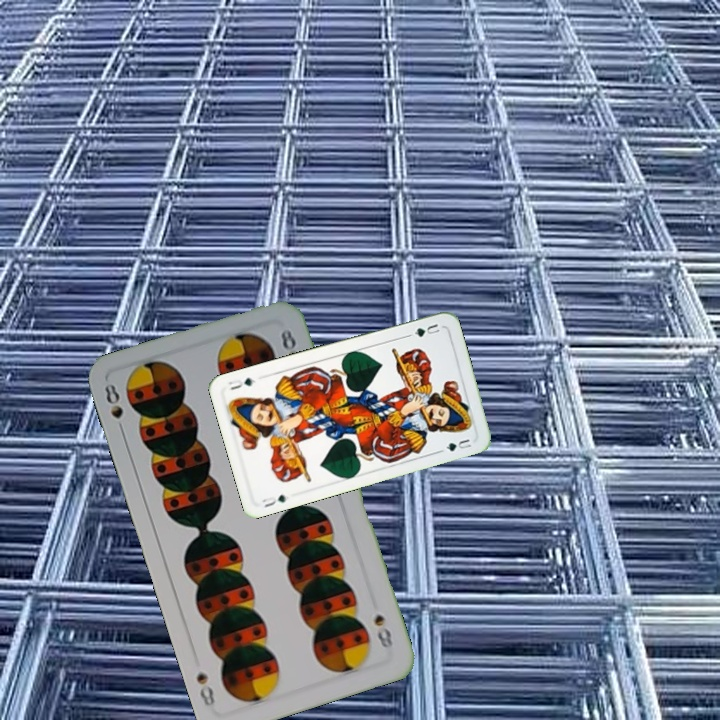GU: (410, 319, 444, 340), (258, 491, 289, 510)
S8: (100, 379, 128, 437), (370, 609, 395, 651)
